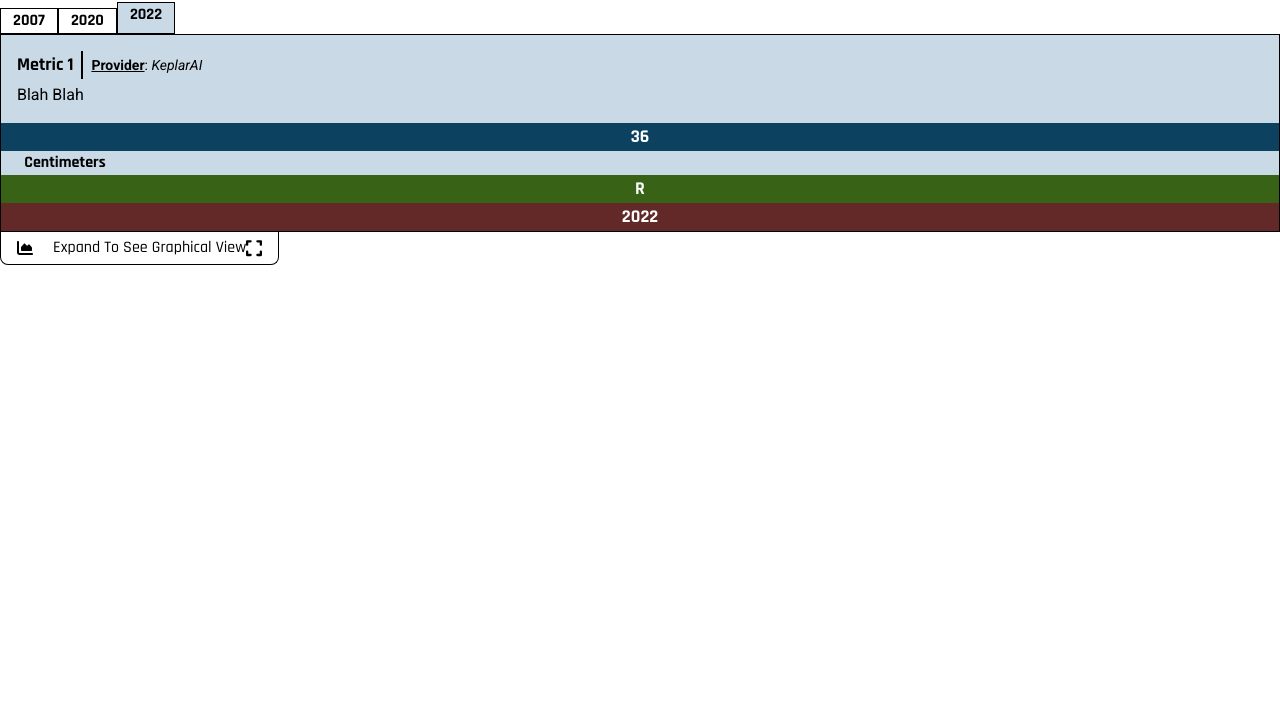
Test: MetricCard › renders the graphical view when the user clicks on the button
Click the button with test id "metric-graph-btn" at (140, 248), box [0,232,279,265]
(page scrolled)
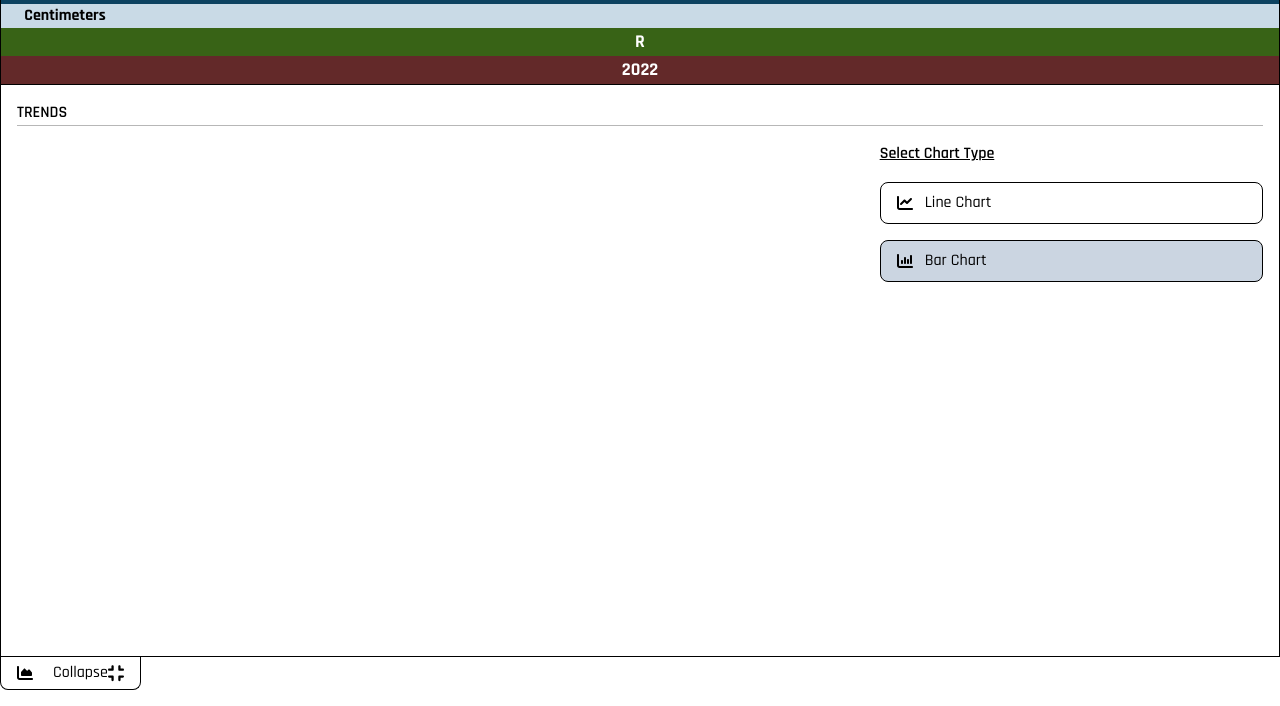
Check: the button with test id "metric-graph-btn" reads "Collapse", box [0,657,141,690]
